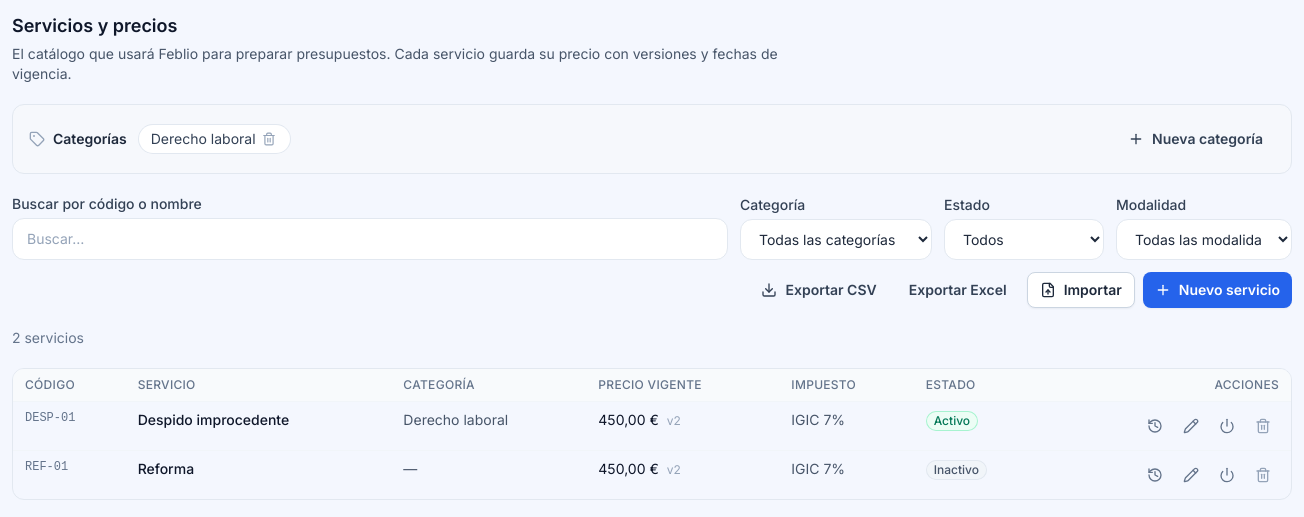
it: catálogo de servicios (paso y pestaña) › filtra por texto, estado y categoría
Expected: the text "Despido improcedente" is shown, [138,411,289,428]
Type "REF" into the field labelled "Buscar por código o nombre" at (370, 239), box [12,218,728,260]
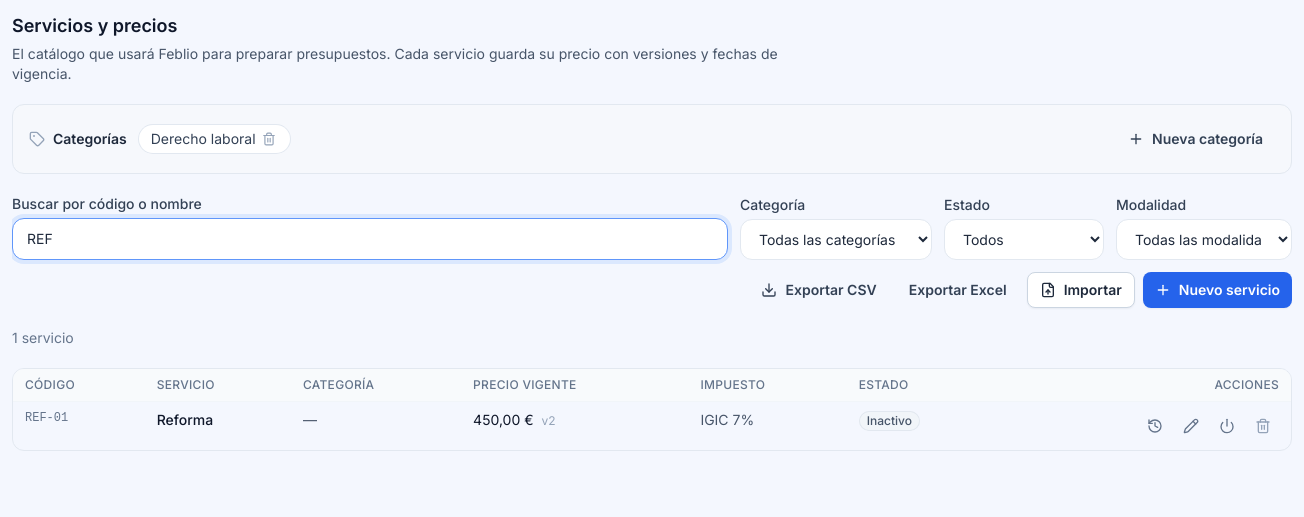
Expected: the text "Reforma" is shown, [157,411,213,428]
Expected: the text "Despido improcedente" is gone
Clear the field labelled "Buscar por código o nombre" at (370, 239), box [12,218,728,260]
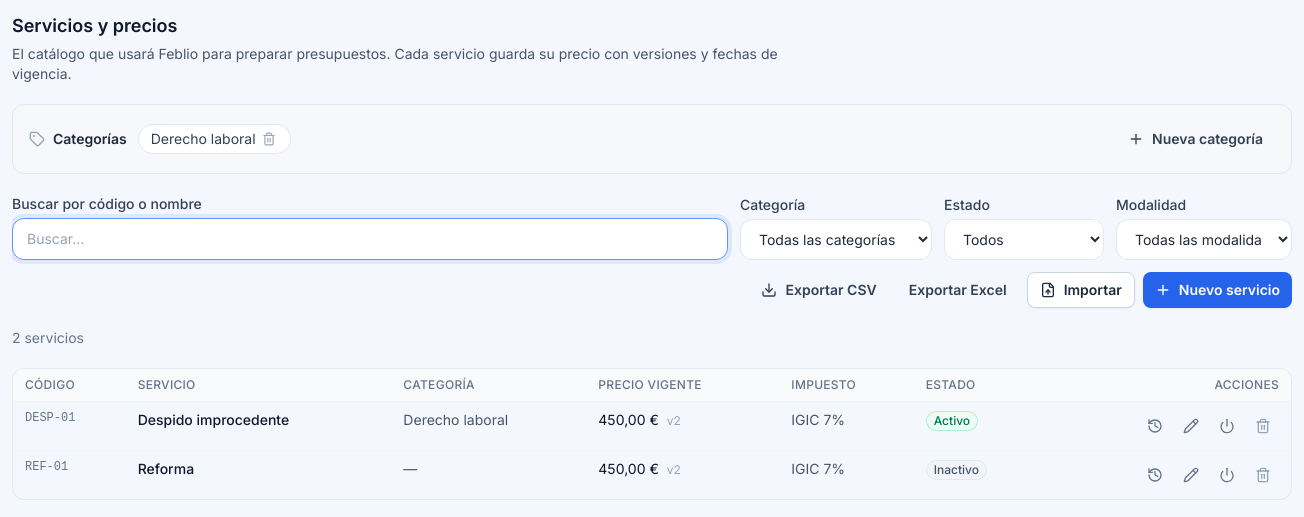
Select "Inactivos" in the dropdown labelled "Estado" at (1024, 240), box [944,219,1104,260]
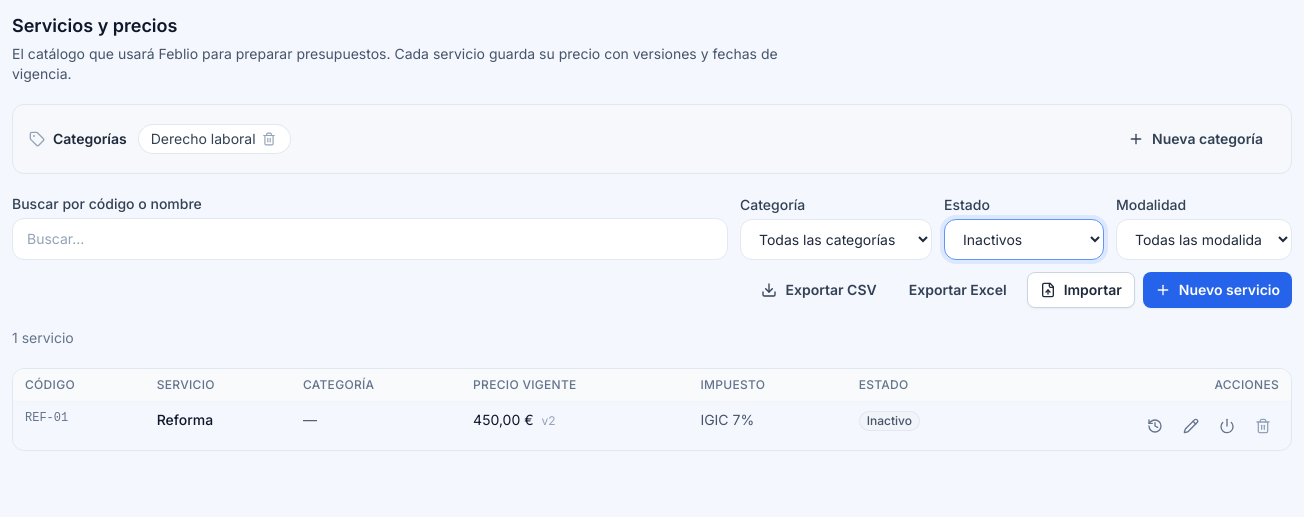
Expected: the text "Despido improcedente" is gone
Select "Activos" in the dropdown labelled "Estado" at (1024, 240), box [944,219,1104,260]
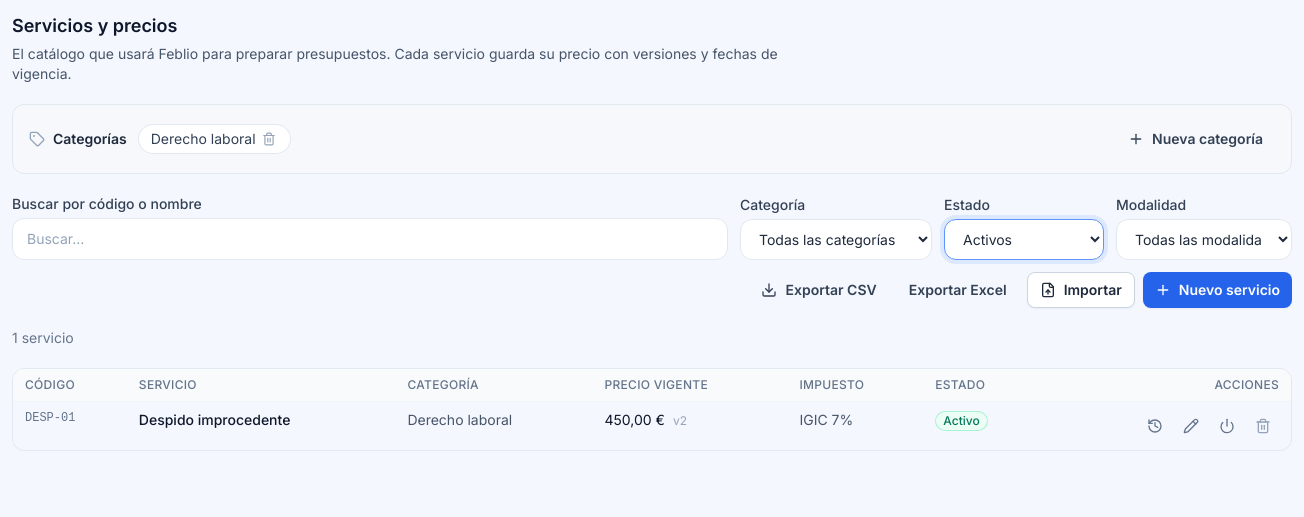
Expected: the text "Despido improcedente" is shown, [139,411,290,428]
